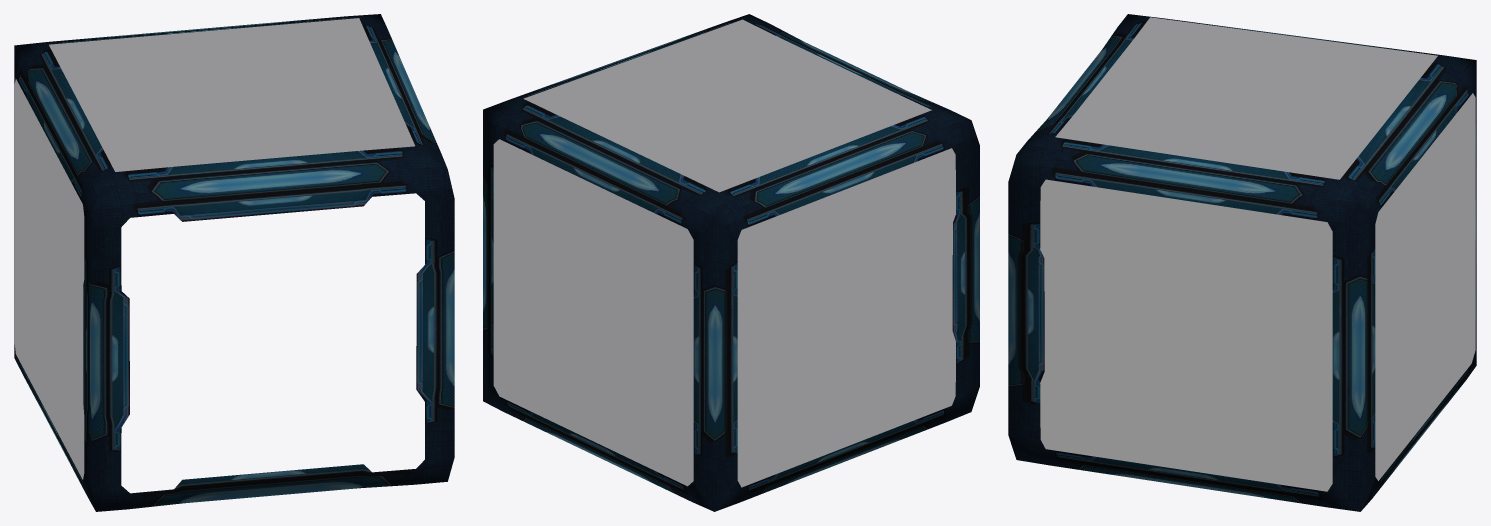
Rendered from Oxygen_Box.gltf.
The picture shows the model from 3 angles, left to right: view 1: azimuth 30°, elevation 25°; view 2: azimuth 150°, elevation 25°; view 3: azimuth 270°, elevation 25°; orthographic projection. The views are drawn at different scales.
Parts seen in each view (by area): view 1: Atom_Box_Plane1, Atom_Box_11; view 2: Atom_Box_Plane1, Atom_Box_11; view 3: Atom_Box_Plane1, Atom_Box_11.
Boxes of the visible parts, x1,y1,x2,y2 form: Atom_Box_Plane1: [14, 18, 414, 479]; Atom_Box_11: [14, 14, 454, 511]; Atom_Box_Plane1: [493, 19, 955, 487]; Atom_Box_11: [483, 14, 979, 511]; Atom_Box_Plane1: [1040, 17, 1475, 491]; Atom_Box_11: [1008, 14, 1476, 511].
Size of the model in its own units: 2.59 by 2.02 by 2.62.
Materials: 2 (1 with a texture image).
